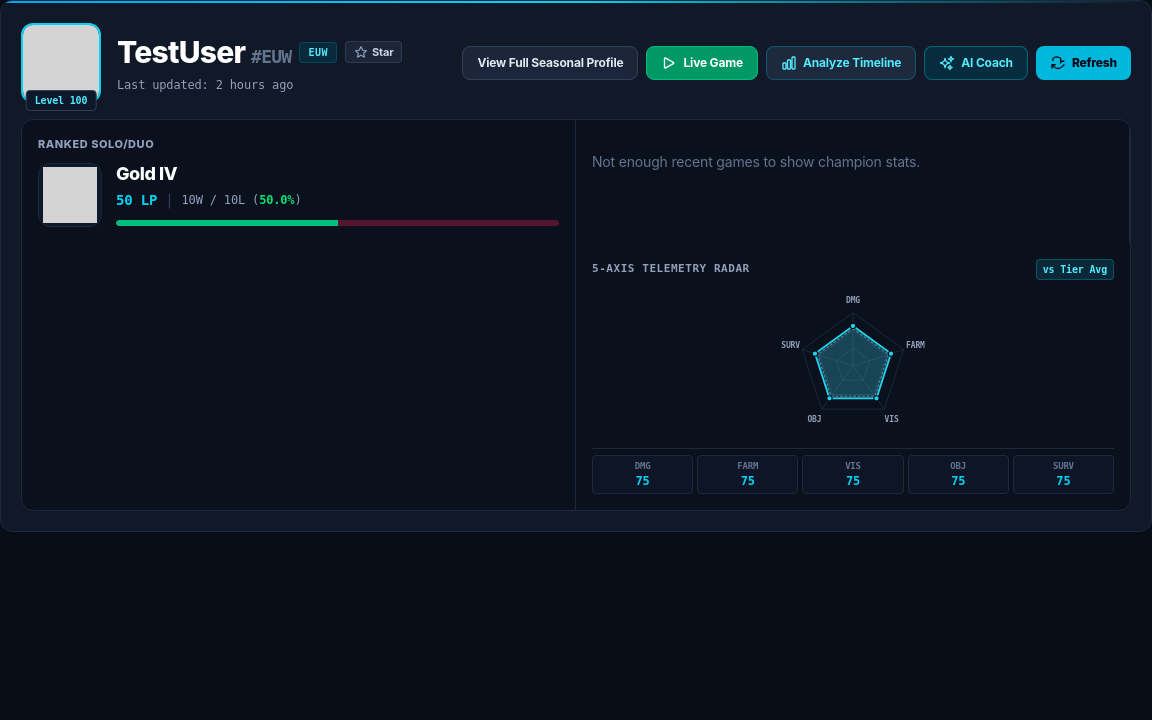
Test: SummonerInfo › toggles starred landing profile state when Star button is clicked
This screenshot has width=1152, height=720.
Click the button with test id "star-profile-button".
click(374, 52)  # box [345,41,402,63]
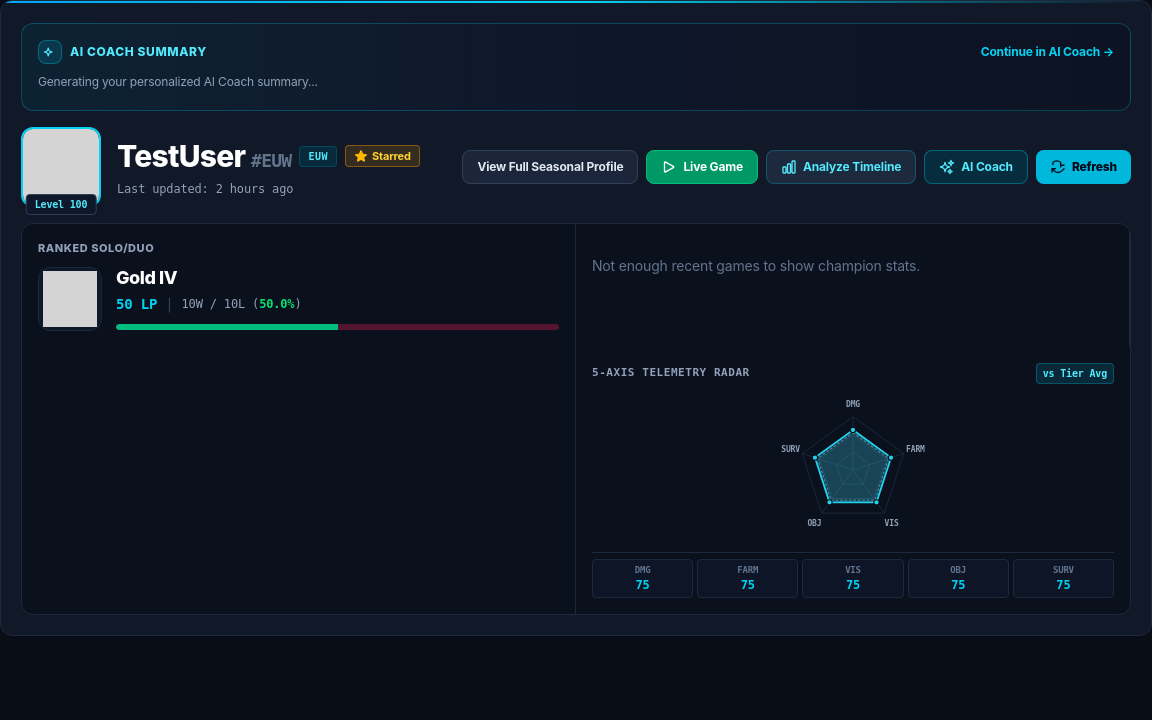
Now the button with test id "star-profile-button" reads "Starred"
Click the button with test id "star-profile-button".
click(382, 156)  # box [345,145,420,167]
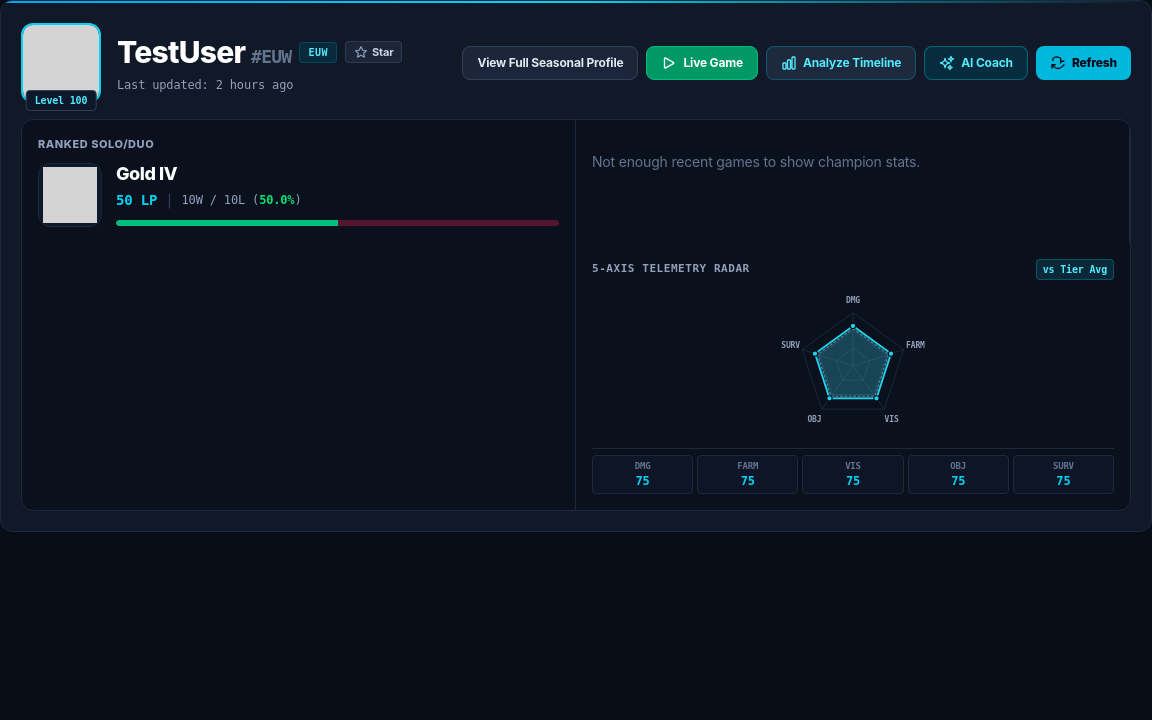
Now the button with test id "star-profile-button" reads "Star", box [345,41,402,63]
